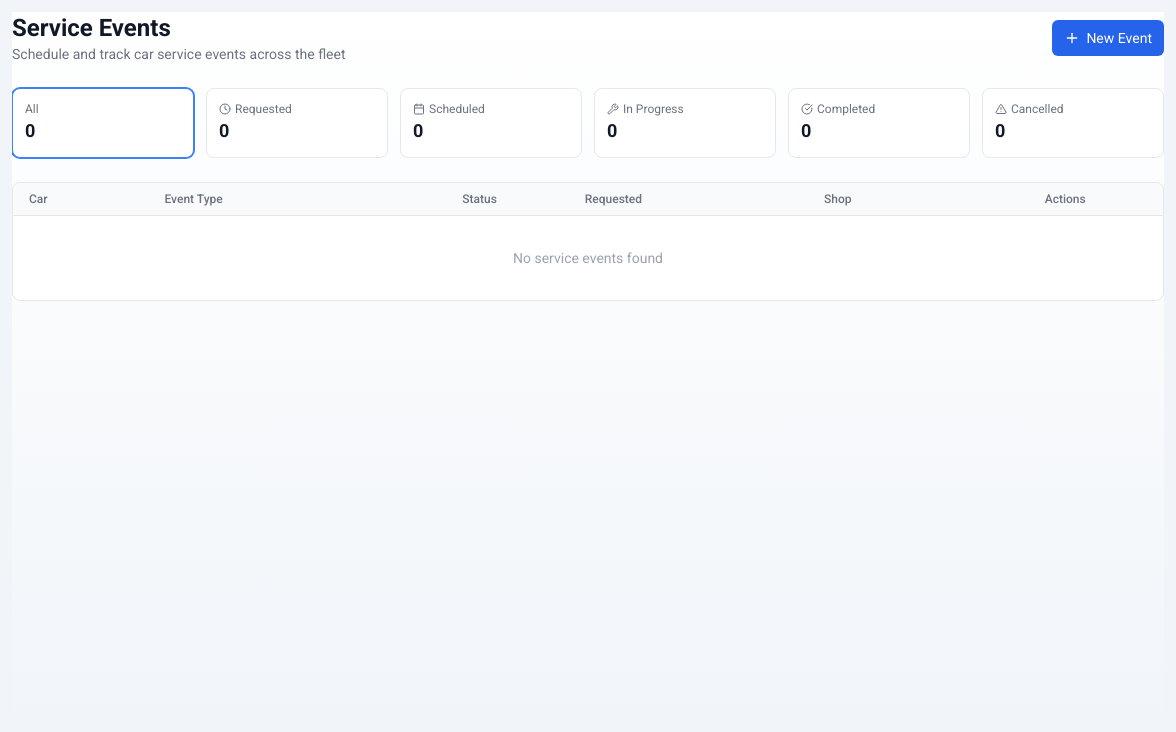
Test: ServiceEventsPage › opens create form when New Event clicked
This screenshot has width=1176, height=732.
Step 1. Click the button "New Event" → [1108, 38], box [1052,20,1164,56]
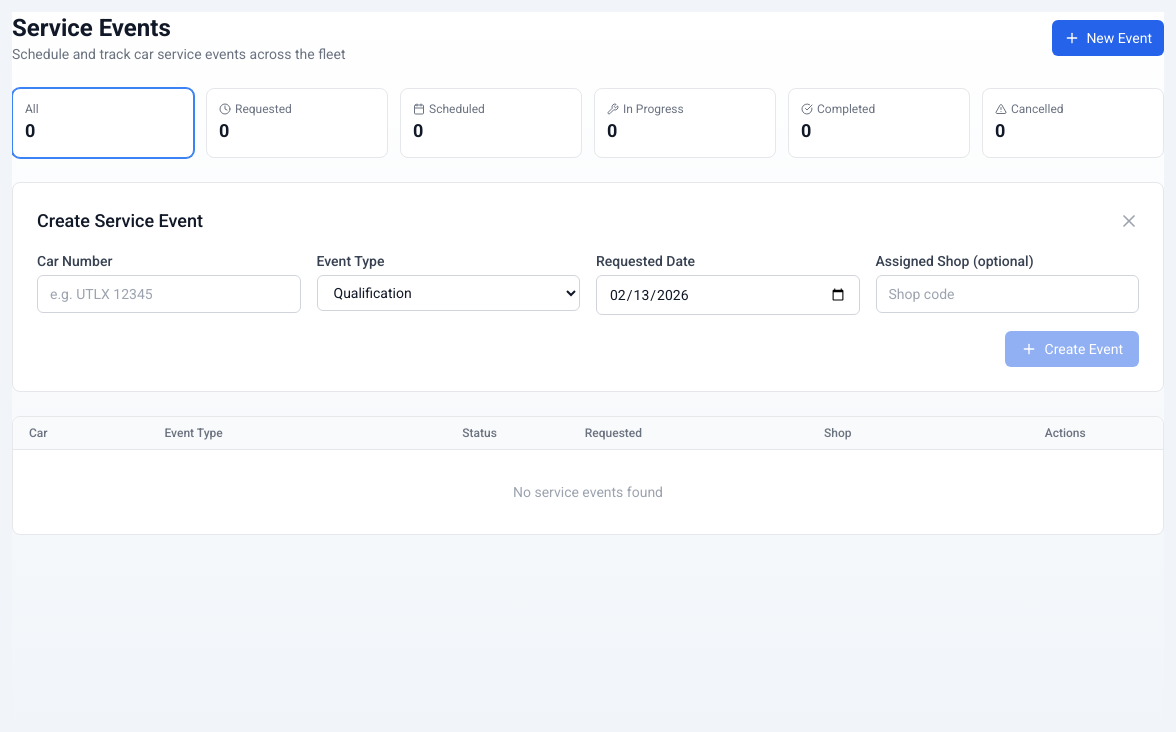
Expected: the heading "Create Service Event" is shown, [37,207,203,235]
